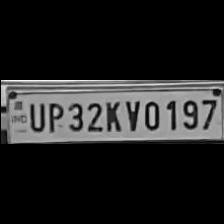0: (140, 97, 160, 130)
1: (162, 97, 178, 131)
2: (83, 98, 103, 132)
3: (64, 98, 84, 132)
7: (198, 96, 218, 130)
9: (178, 96, 198, 130)
K: (102, 98, 122, 132)
P: (43, 100, 62, 132)
U: (24, 100, 43, 132)
V: (122, 98, 140, 132)
